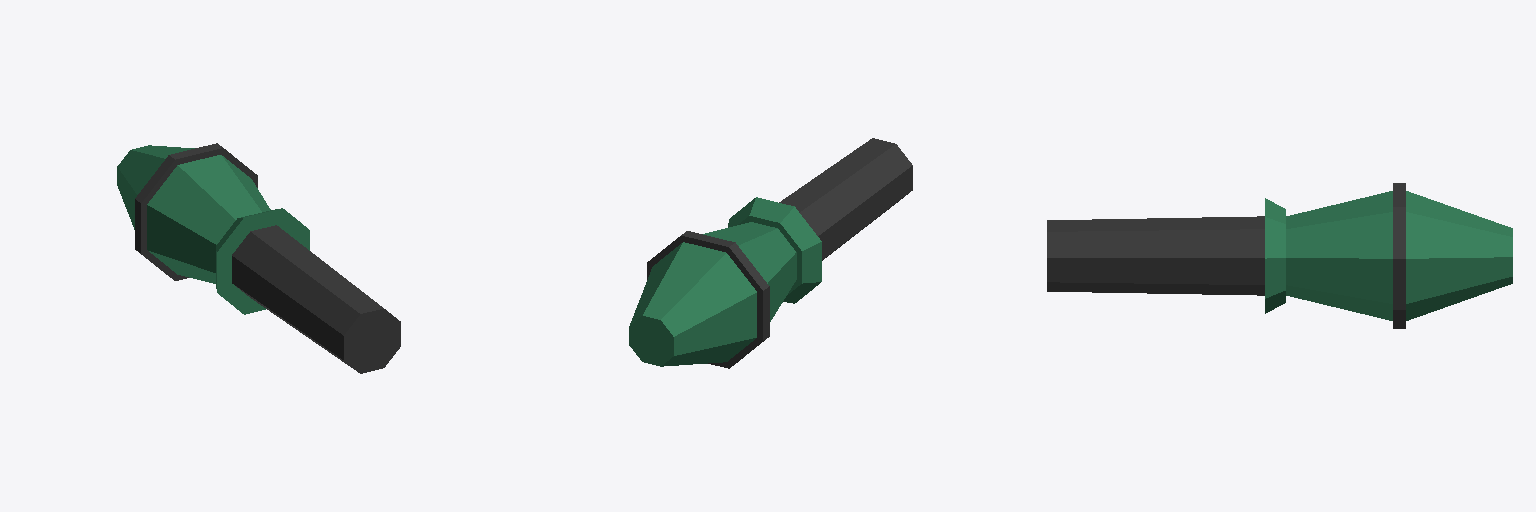
File: ammo_rocket.obj
The picture shows the model from 3 angles: view 1: azimuth 30°, elevation 25°; view 2: azimuth 150°, elevation 25°; view 3: azimuth 270°, elevation 25°; orthographic projection.
Parts seen in each view (by area): view 1: ammo_rocket; view 2: ammo_rocket; view 3: ammo_rocket.
Boxes of the visible parts, <box> form: ammo_rocket: <box>117,143,400,373</box>; ammo_rocket: <box>629,138,912,368</box>; ammo_rocket: <box>1047,183,1512,328</box>.
Bounding box in the file's own units: 0.1203 × 0.1203 × 0.4173.